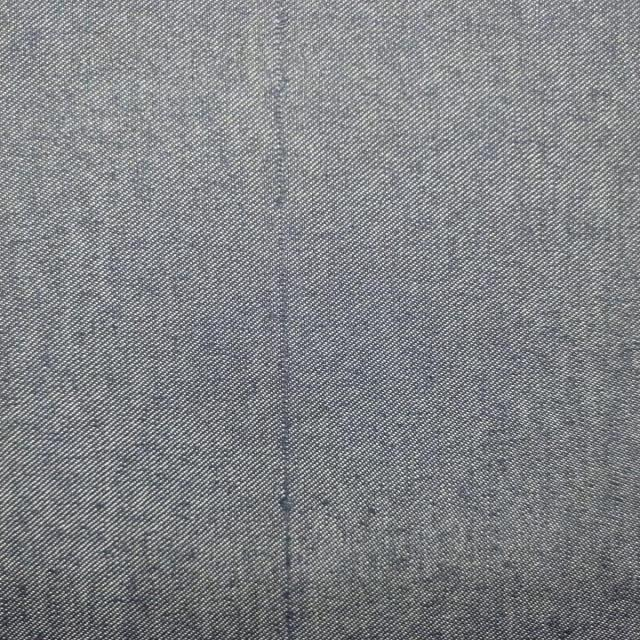Line: (272, 0, 294, 640)
